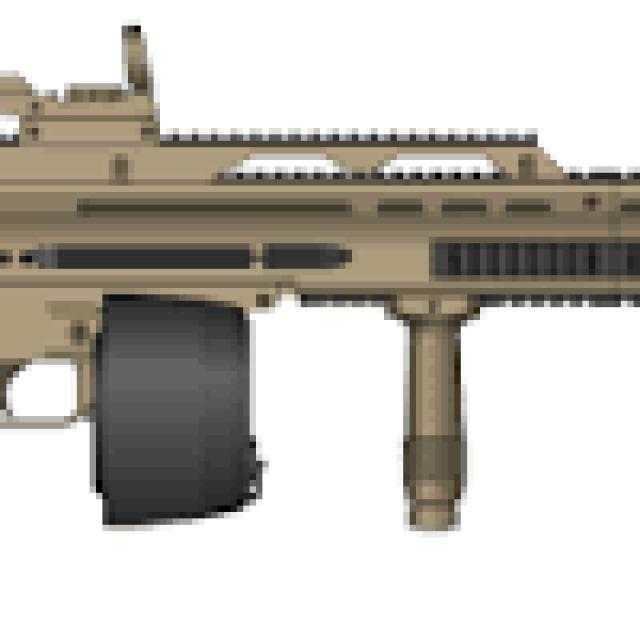Gun: (0, 38, 640, 554)
